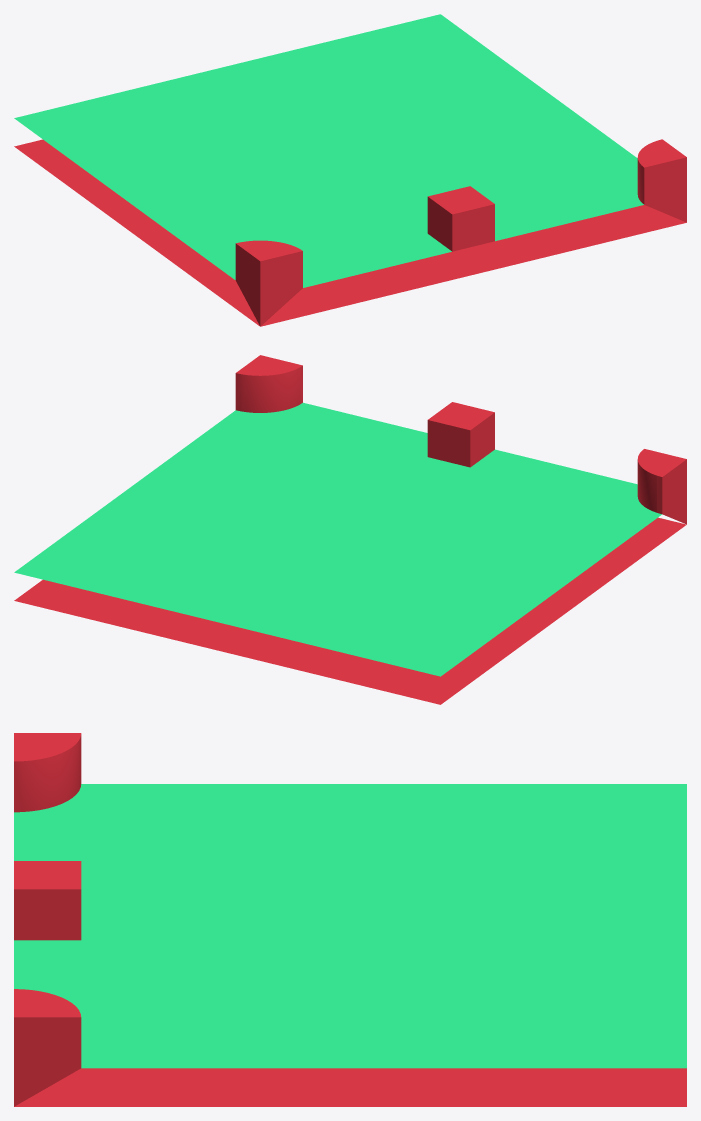
The model's file is splitWallsToOpen.fbx.
3 renders of one model, top to bottom at view 1: azimuth 30°, elevation 25°; view 2: azimuth 150°, elevation 25°; view 3: azimuth 270°, elevation 25°, orthographic. The views are drawn at different scales.
Parts seen in each view (by area): view 1: splitWallsToOpen; view 2: splitWallsToOpen; view 3: splitWallsToOpen.
Part boxes in pixels (x1,y1,x2,y2): splitWallsToOpen: [14, 14, 686, 326]; splitWallsToOpen: [14, 355, 686, 704]; splitWallsToOpen: [14, 733, 686, 1106].
Size of the model in its own units: 99.99 by 99.99 by 14.67.
